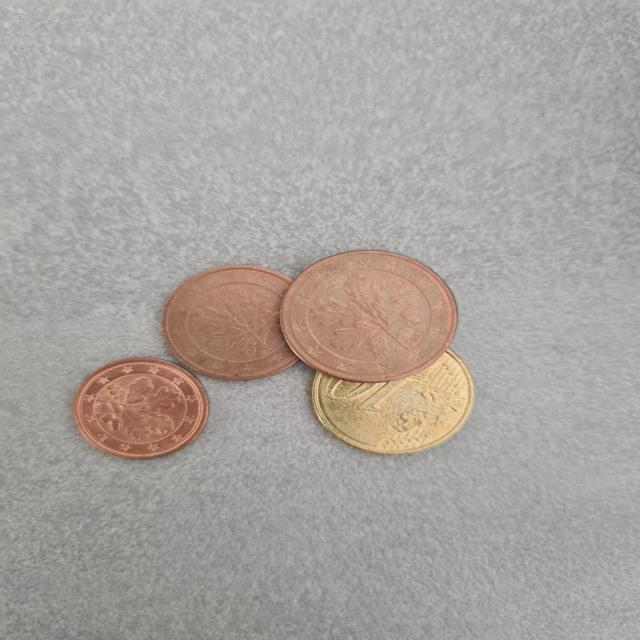10c: (307, 338, 479, 462)
2c: (63, 349, 222, 467)
5c: (266, 240, 464, 386), (158, 259, 325, 387)
